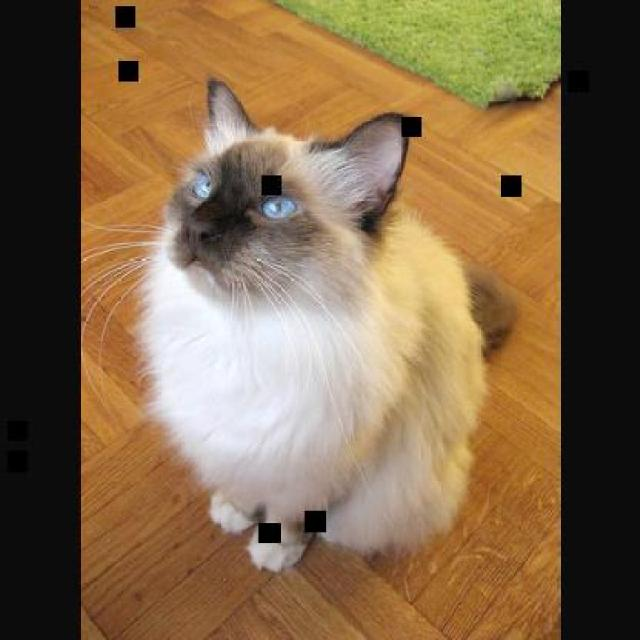unauthorized: (79, 75, 518, 574)
